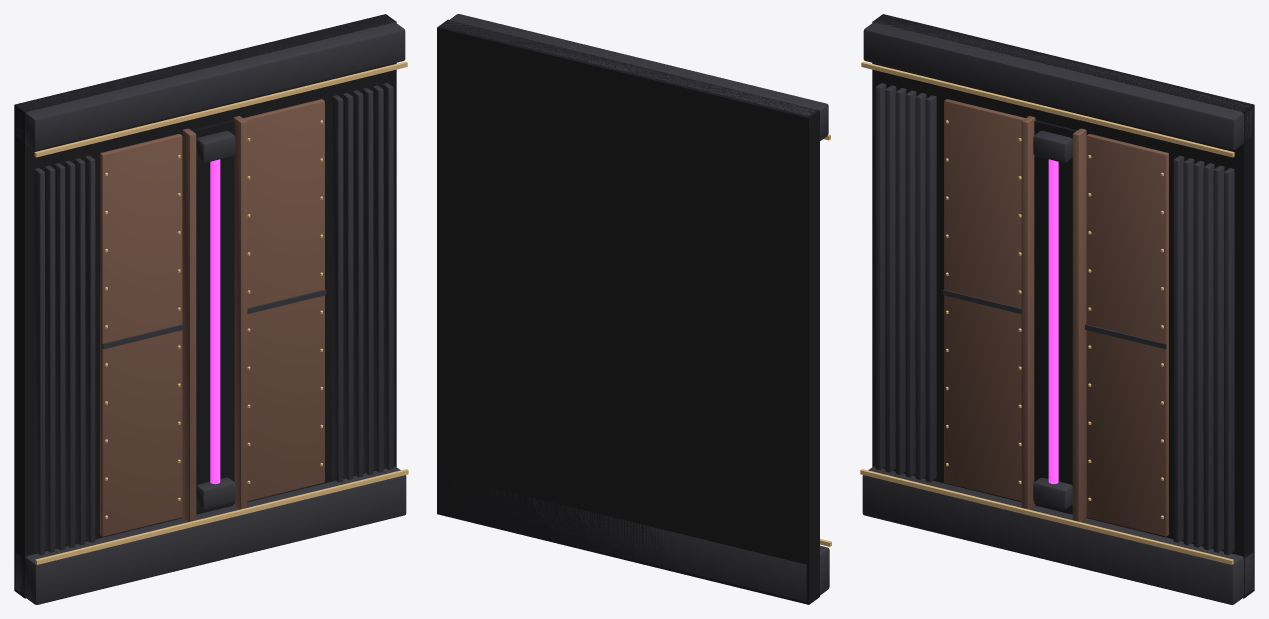
File: KIT_Parede_Painel.glb
3 renders of one model, left to right at view 1: azimuth 30°, elevation 25°; view 2: azimuth 150°, elevation 25°; view 3: azimuth 330°, elevation 25°, orthographic.
Parts seen in each view (by area): view 1: KIT_Parede_Painel; view 2: KIT_Parede_Painel; view 3: KIT_Parede_Painel.
Boxes of the visible parts, x1,y1,x2,y2 form: KIT_Parede_Painel: [14, 14, 408, 604]; KIT_Parede_Painel: [437, 14, 831, 604]; KIT_Parede_Painel: [860, 14, 1254, 604].
Size of the model in its own units: 2.4 by 3 by 0.255.
